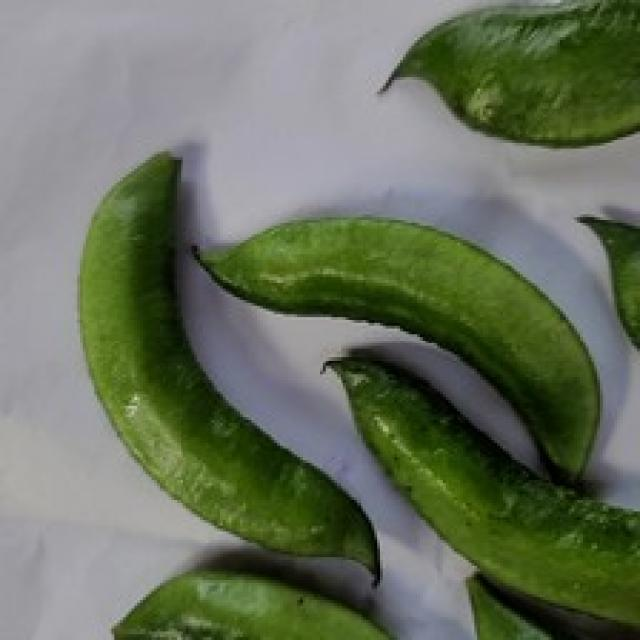Bean: (74, 145, 380, 586), (189, 211, 600, 486), (320, 349, 637, 637), (374, 0, 637, 149)
